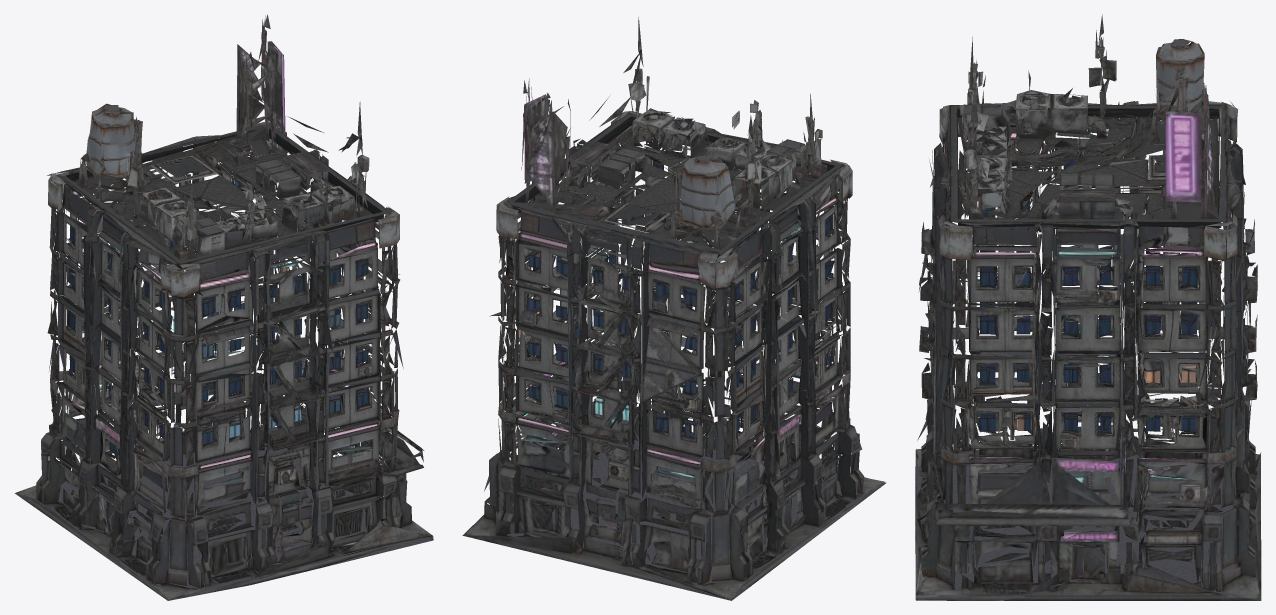
Rendered from env_building.glb.
3 renders of one model, left to right at view 1: azimuth 30°, elevation 25°; view 2: azimuth 150°, elevation 25°; view 3: azimuth 270°, elevation 25°, orthographic. The views are drawn at different scales.
Parts seen in each view (by area): view 1: body; view 2: body; view 3: body.
Boxes of the visible parts, left/top/right/bottom form: body: left=14, top=14, right=433, bottom=600; body: left=462, top=17, right=886, bottom=600; body: left=915, top=14, right=1261, bottom=600.
Bounding box in the file's own units: 0.9029 × 1.43 × 0.9006.
1 material, 1 textured.
